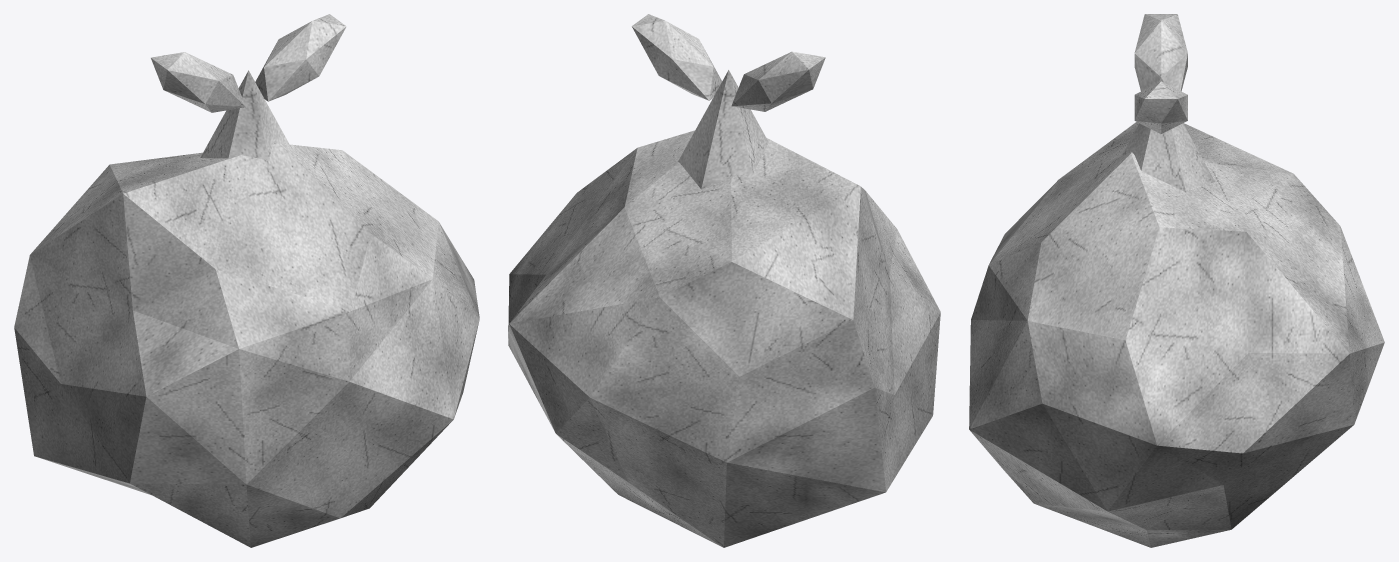
The model's file is trash_bag.glb.
3 views of the same model, side by side, from view 1: azimuth 30°, elevation 25°; view 2: azimuth 150°, elevation 25°; view 3: azimuth 270°, elevation 25° (orthographic). The views are drawn at different scales.
Visible parts, largest first — view 1: trash_bag; view 2: trash_bag; view 3: trash_bag.
Part boxes in pixels (box(x1,y1,x2,y2)): trash_bag: box(14, 14, 479, 547); trash_bag: box(508, 14, 940, 547); trash_bag: box(969, 14, 1384, 547).
Size of the model in its own units: 3.71 by 4.31 by 3.31.
Materials: 1 (1 with a texture image).
